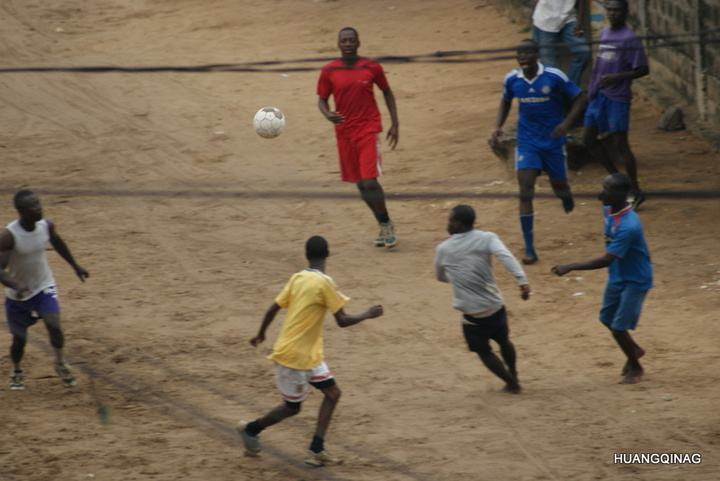football: (252, 106, 286, 142)
